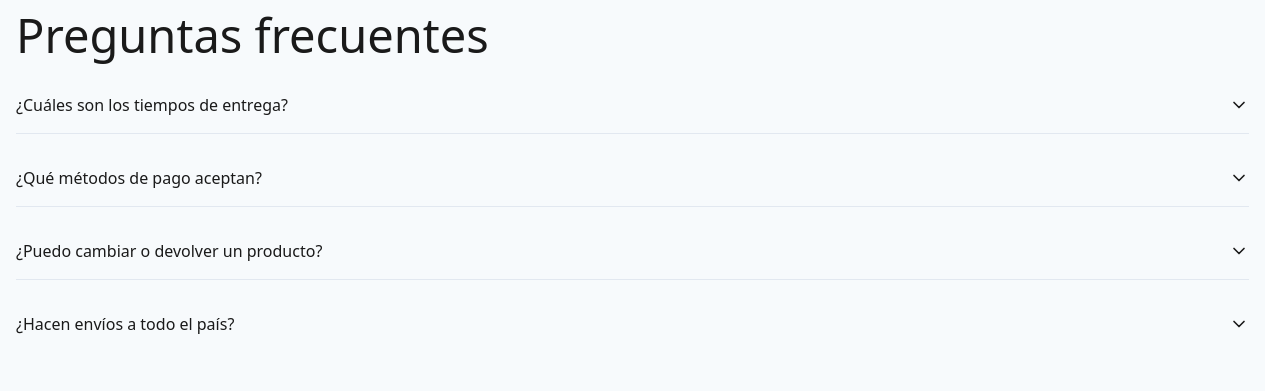
Scenario: Faq › expands a single item on click without affecting the others
Click the button "¿Cuáles son los tiempos de entrega?": (152, 105) [16,77,1249,133]
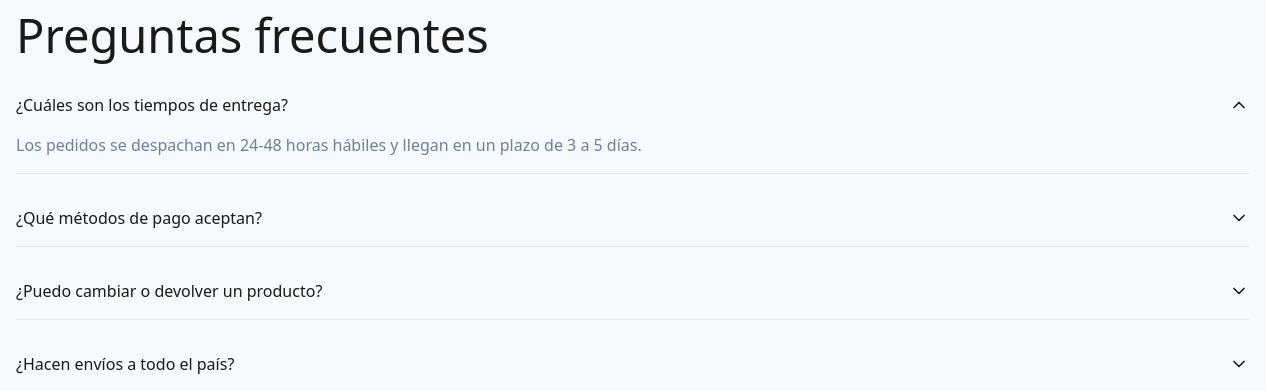
Expected: the text "Los pedidos se despachan en 24-48 horas hábiles y llegan en un plazo de 3 a 5 días." is shown, [16,134,642,156]
Click the button "¿Cuáles son los tiempos de entrega?": (152, 105) [16,77,1249,133]
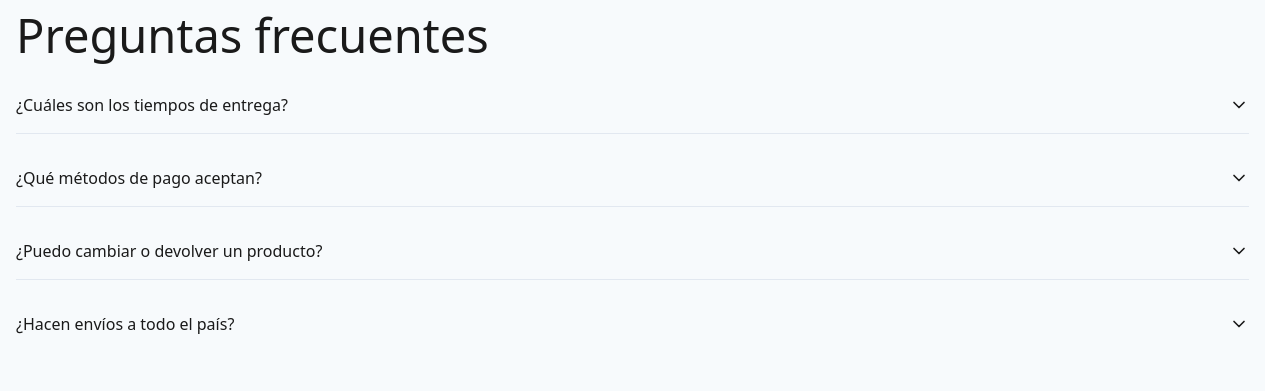
Expected: the text "Los pedidos se despachan en 24-48 horas hábiles y llegan en un plazo de 3 a 5 días." is gone
